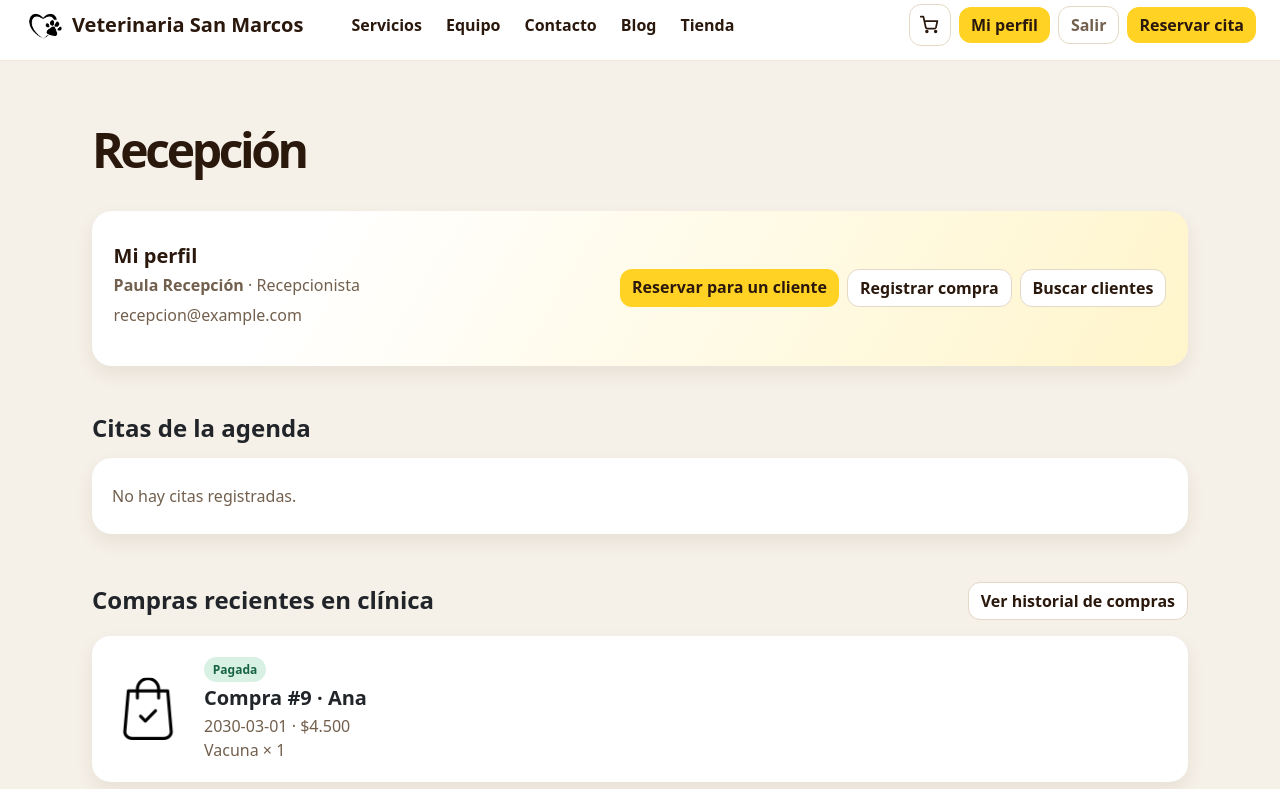
Scenario: muestra en el perfil las compras de mostrador y enlaza al historial
Expected: the heading "Compra #9 · Ana" is shown, [204, 684, 367, 711]
Expected: the text "Vacuna × 1" is shown, [204, 739, 285, 761]
Click the link "Ver historial de compras".
click(1078, 601)  # box [968, 582, 1188, 620]
(page scrolled)
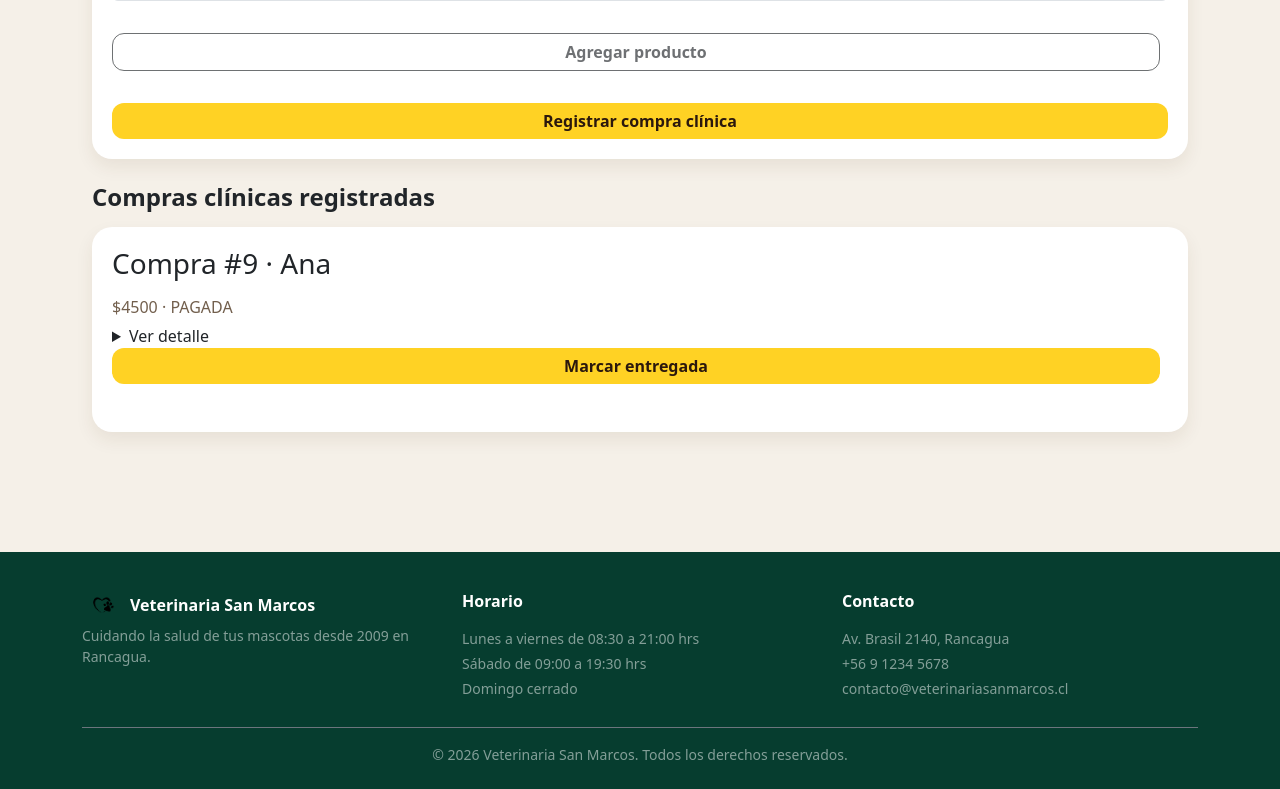
Result: the heading "Compras clínicas registradas" is shown at [92, 180, 435, 213]
